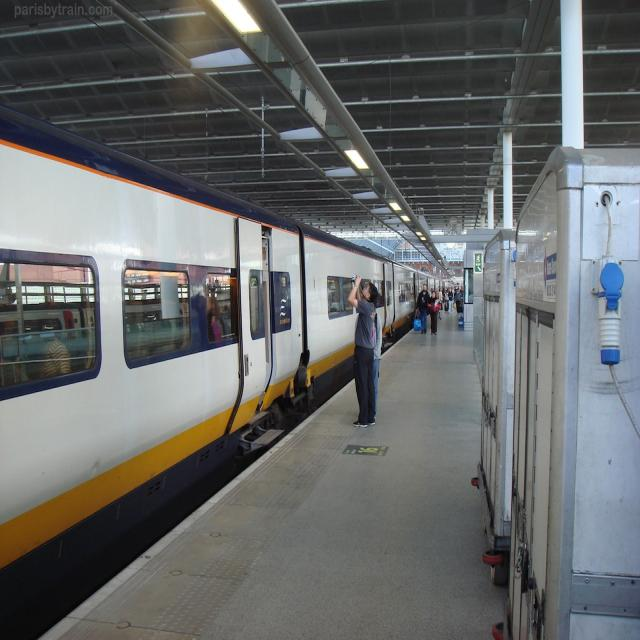body: (0, 297, 242, 377), (346, 273, 378, 430), (353, 311, 383, 419), (37, 317, 71, 378), (414, 282, 432, 335), (433, 285, 465, 310), (426, 290, 442, 337), (398, 284, 412, 301), (447, 286, 455, 314), (456, 286, 462, 312), (438, 288, 444, 311)
